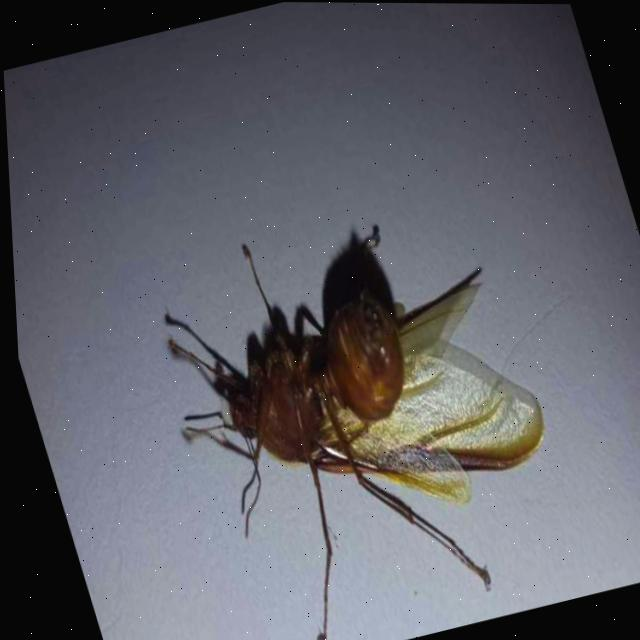Dead-Male-Alate: (130, 182, 588, 640)
